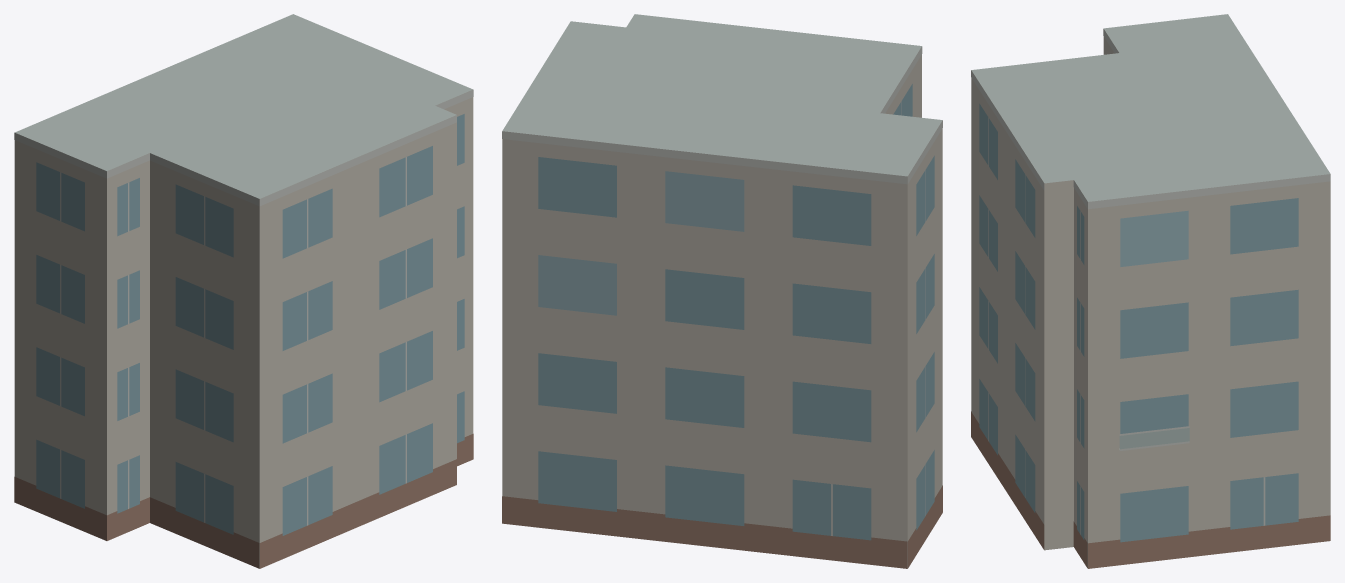
The model's file is residential-9002acc6-0359-4b7a-82ee-b9774f3f3a5d.glb.
3 renders of one model, left to right at view 1: azimuth 30°, elevation 25°; view 2: azimuth 150°, elevation 25°; view 3: azimuth 270°, elevation 25°, orthographic. The views are drawn at different scales.
Visible parts, largest first — view 1: residential-9002acc6-0359-4b7a-82ee-b9774f3f3a5d.tmp; view 2: residential-9002acc6-0359-4b7a-82ee-b9774f3f3a5d.tmp; view 3: residential-9002acc6-0359-4b7a-82ee-b9774f3f3a5d.tmp.
Part boxes in pixels (bbox=[...]): residential-9002acc6-0359-4b7a-82ee-b9774f3f3a5d.tmp: bbox=[14, 14, 473, 568]; residential-9002acc6-0359-4b7a-82ee-b9774f3f3a5d.tmp: bbox=[502, 14, 942, 568]; residential-9002acc6-0359-4b7a-82ee-b9774f3f3a5d.tmp: bbox=[971, 14, 1330, 568].
Size of the model in its own units: 13.41 by 12.2 by 10.84.
